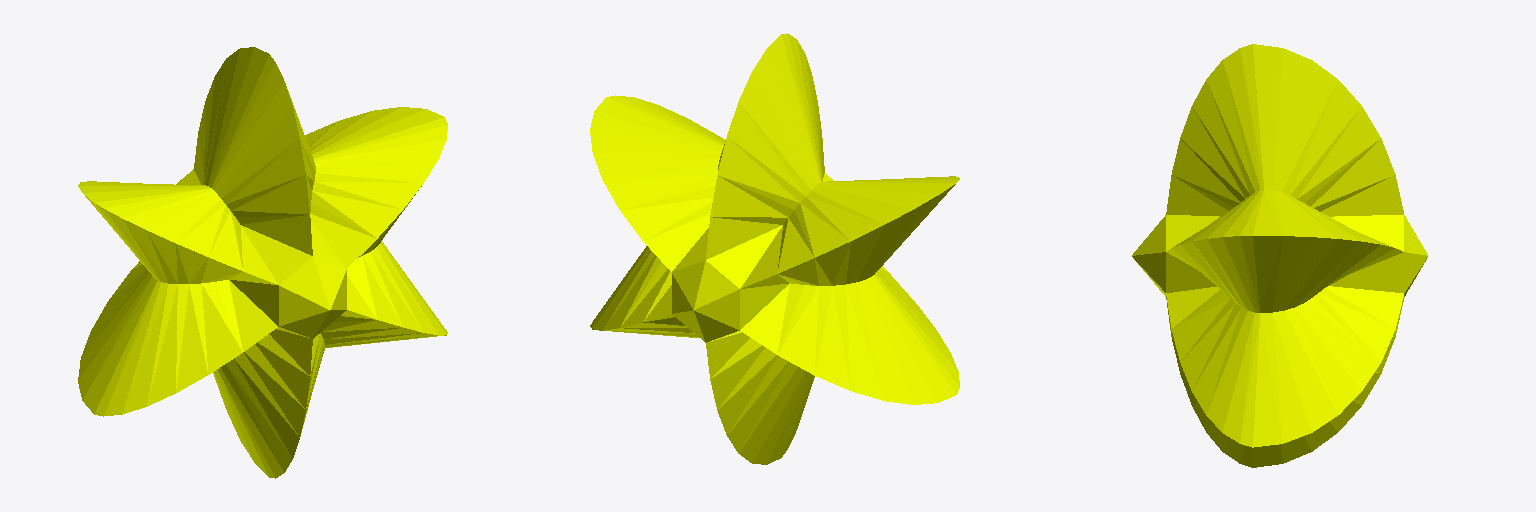
The picture shows the model from 3 angles: view 1: azimuth 30°, elevation 25°; view 2: azimuth 150°, elevation 25°; view 3: azimuth 270°, elevation 25°; orthographic projection.
Visible parts, largest first — view 1: 球; view 2: 球; view 3: 球.
Boxes of the visible parts, x1=… form: 球: x1=78, y1=47, x2=447, y2=478; 球: x1=590, y1=33, x2=959, y2=464; 球: x1=1132, y1=44, x2=1427, y2=467.
Size of the model in its own units: 1.73 by 2 by 1.27.
1 materials, 1 textured.